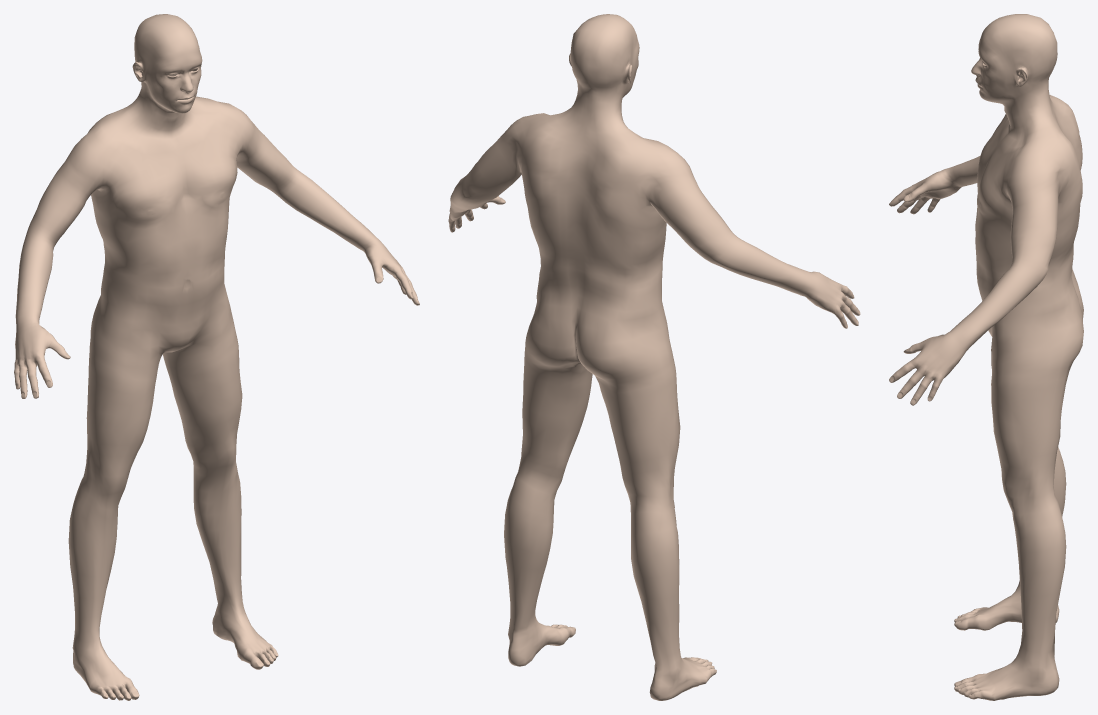
File: Male_EyeballsRemoved.fbx
3 renders of one model, left to right at view 1: azimuth 30°, elevation 25°; view 2: azimuth 150°, elevation 25°; view 3: azimuth 270°, elevation 25°, orthographic.
Parts seen in each view (by area): view 1: maleMesh; view 2: maleMesh; view 3: maleMesh.
Part boxes in pixels (x1,y1,x2,y2): maleMesh: (14, 14, 419, 700); maleMesh: (448, 14, 860, 700); maleMesh: (889, 14, 1083, 700).
Size of the model in its own units: 446 by 693 by 191.
